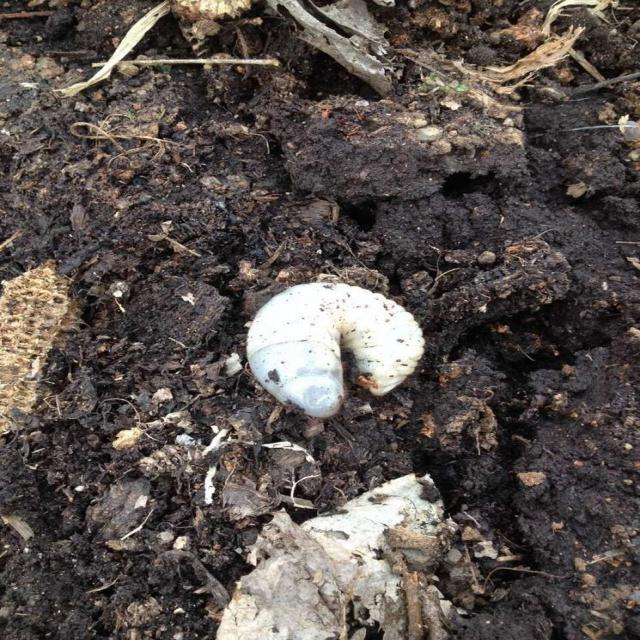Grub-Adult-: (240, 279, 430, 417)
